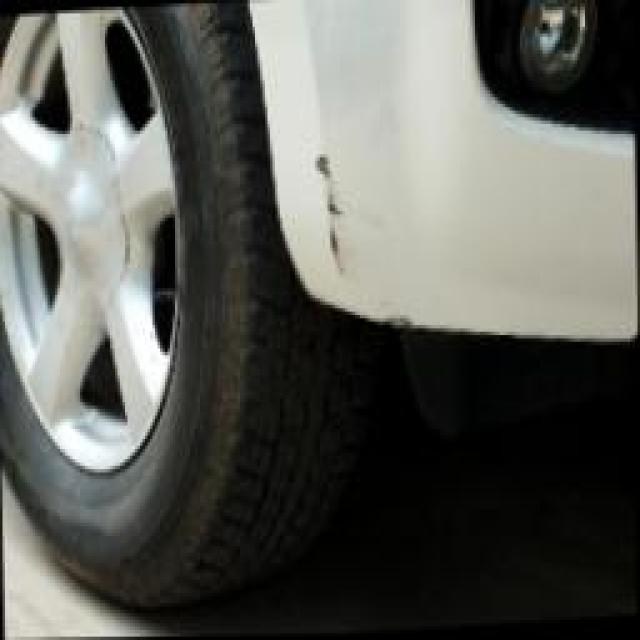Bumper: (272, 124, 431, 361)
